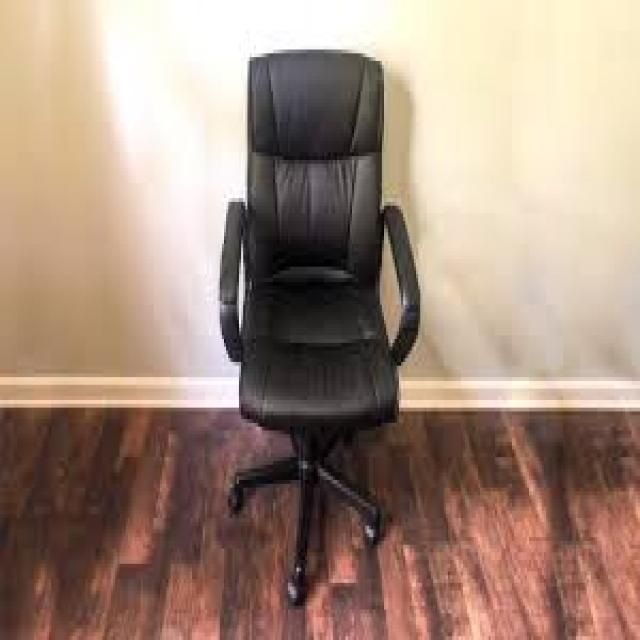chair: (153, 25, 445, 634)
